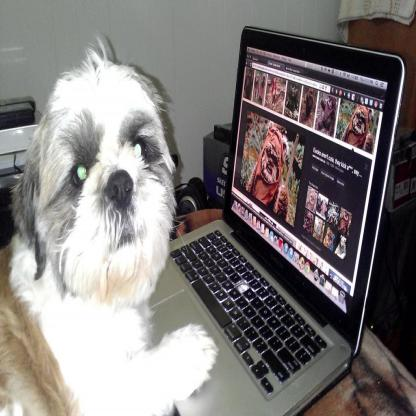board: (145, 21, 404, 416)
